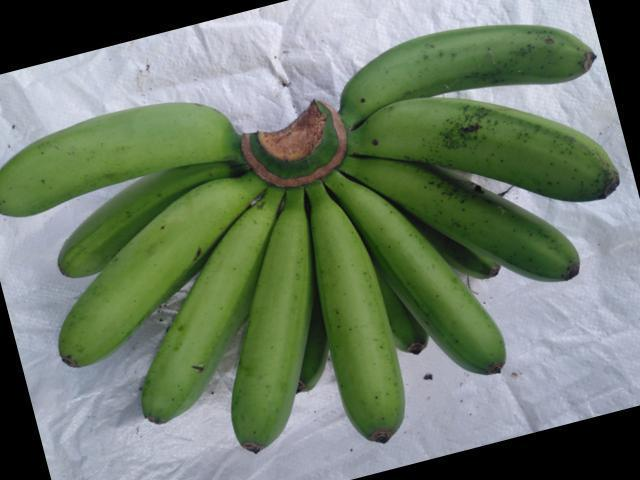unripe: (52, 164, 243, 372), (227, 140, 334, 459), (346, 91, 619, 205), (0, 91, 245, 215), (310, 184, 409, 458), (321, 15, 607, 88)
